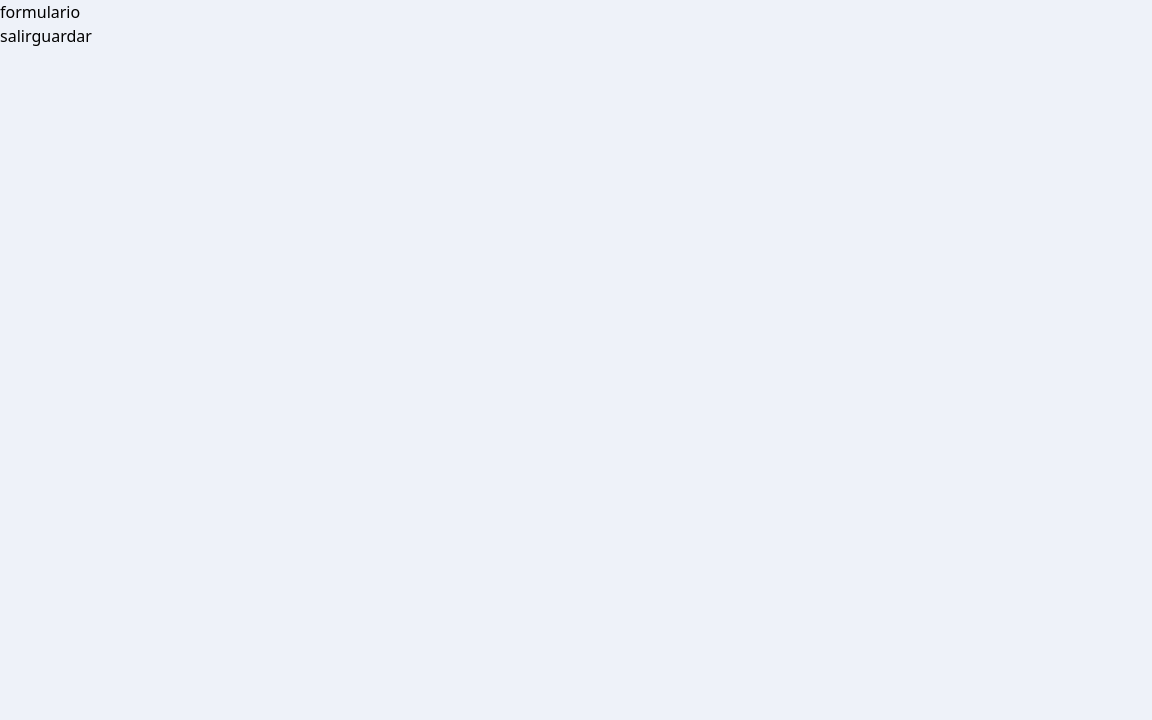
useConfirmarSalida › sucio: "Salir sin guardar" navega
Click the link "salir" at (16, 36), box left=0, top=25, right=32, bottom=47
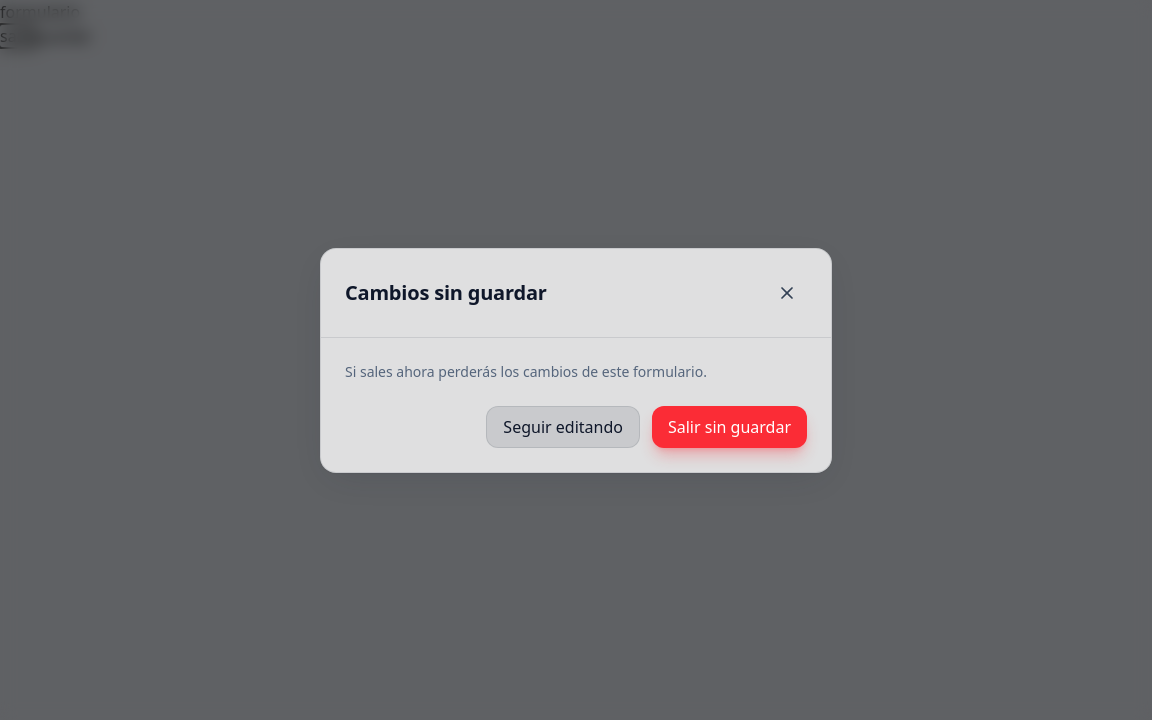
Click the button "Salir sin guardar" at (730, 426), box left=652, top=406, right=807, bottom=448
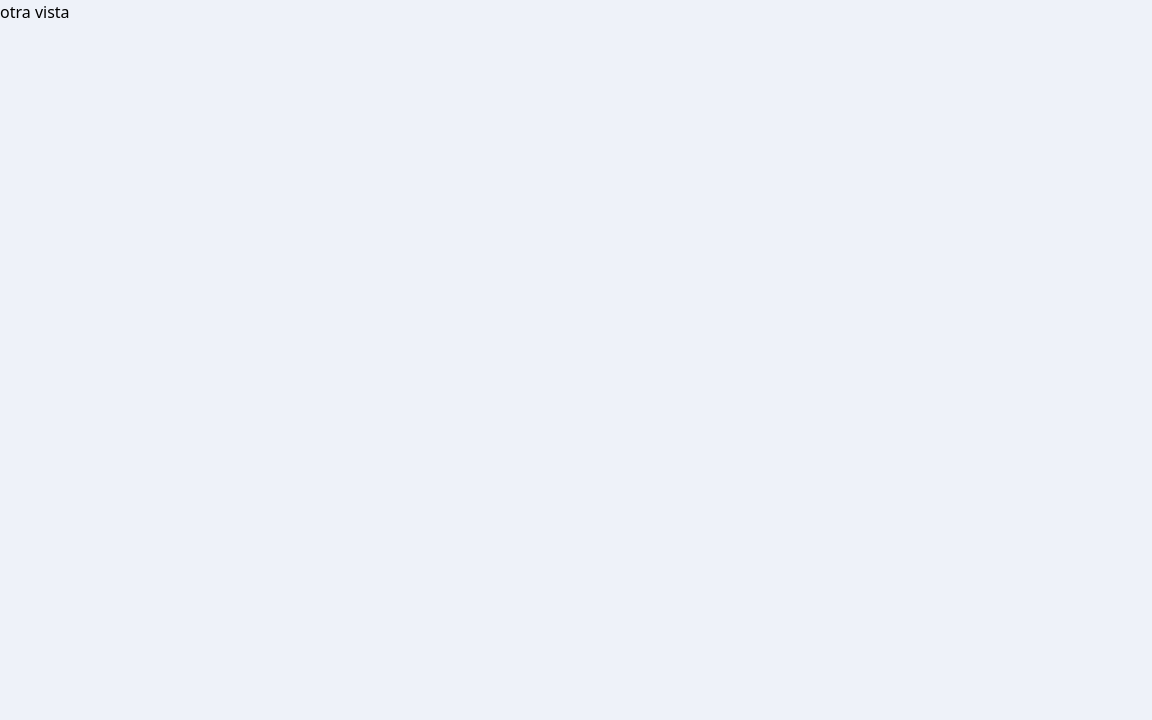
Expected: the text "otra vista" is shown, left=0, top=1, right=70, bottom=23
